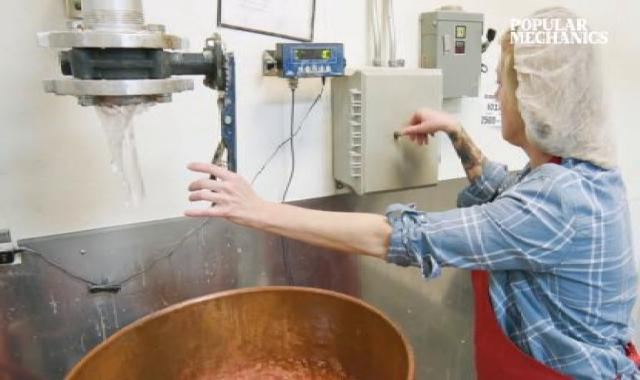hairnet: (503, 10, 630, 167)
